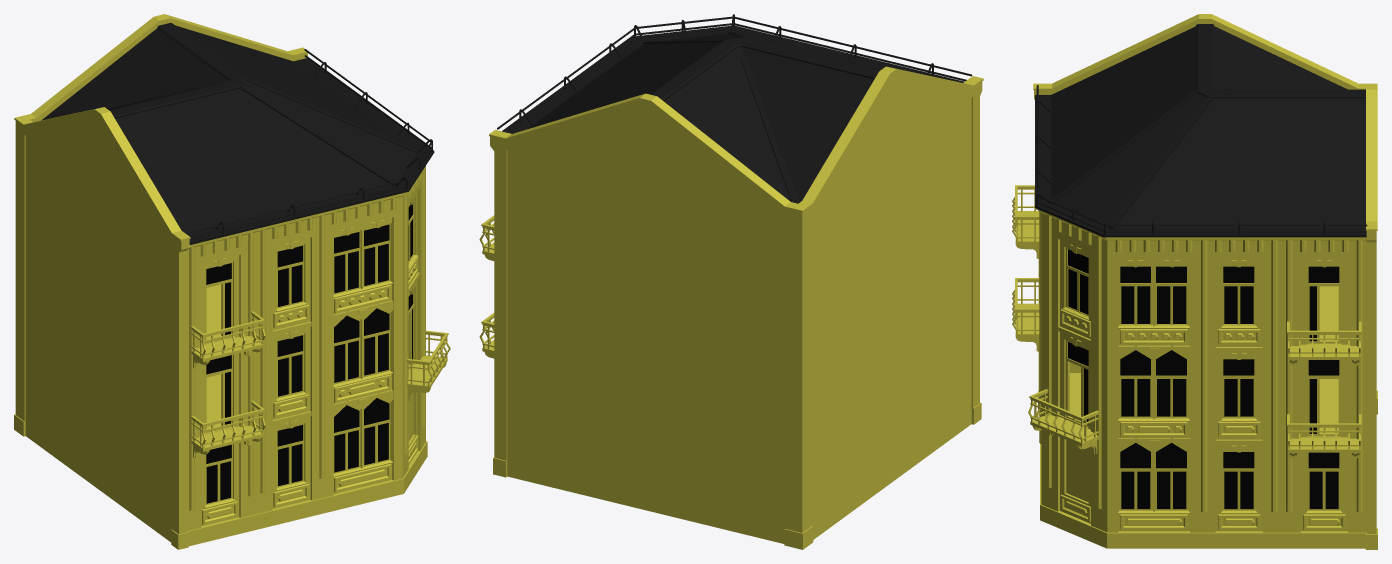
The model's file is SM_third_house.fbx.
3 renders of one model, left to right at view 1: azimuth 30°, elevation 25°; view 2: azimuth 150°, elevation 25°; view 3: azimuth 270°, elevation 25°, orthographic. The views are drawn at different scales.
Visible parts, largest first — view 1: Cylinder_22; view 2: Cylinder_22; view 3: Cylinder_22.
Part boxes in pixels (bbox=[...]): Cylinder_22: bbox=[14, 14, 450, 549]; Cylinder_22: bbox=[479, 14, 983, 549]; Cylinder_22: bbox=[1012, 14, 1377, 549].
Bounding box in the file's own units: 1072 × 1270 × 1074.
